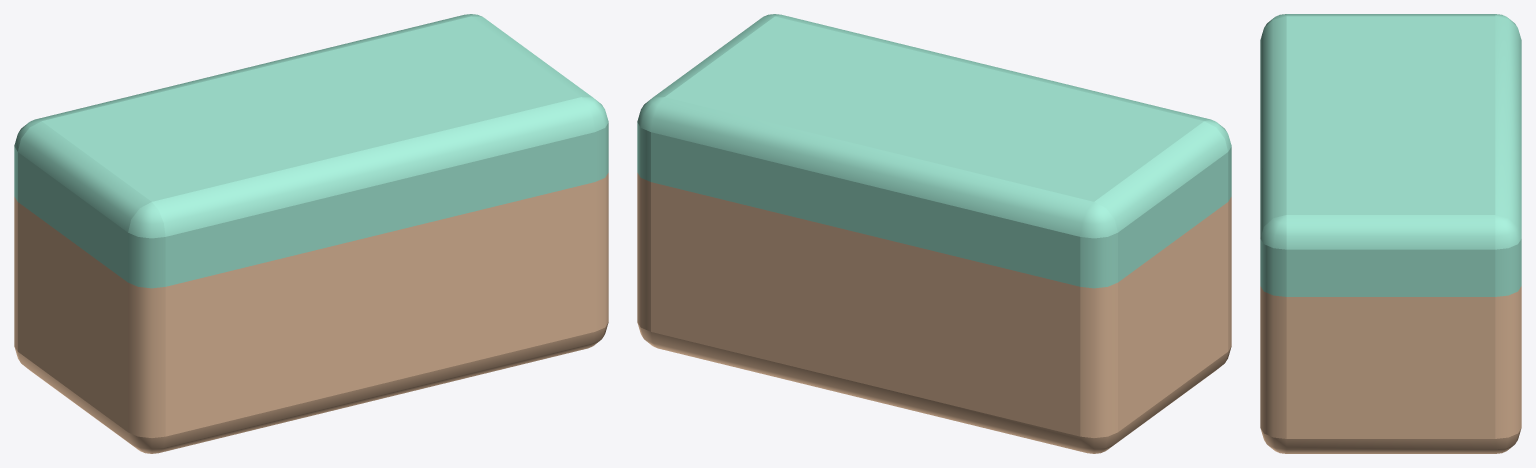
The picture shows the model from 3 angles, left to right: view 1: azimuth 30°, elevation 25°; view 2: azimuth 150°, elevation 25°; view 3: azimuth 270°, elevation 25°; orthographic projection. The views are drawn at different scales.
Parts seen in each view (by area): view 1: blockRoundedLong; view 2: blockRoundedLong; view 3: blockRoundedLong.
Part boxes in pixels (left/top/right/bottom): blockRoundedLong: left=14, top=14, right=608, bottom=453; blockRoundedLong: left=637, top=14, right=1231, bottom=453; blockRoundedLong: left=1260, top=14, right=1521, bottom=453.
Size of the model in its own units: 2 by 1 by 1.
